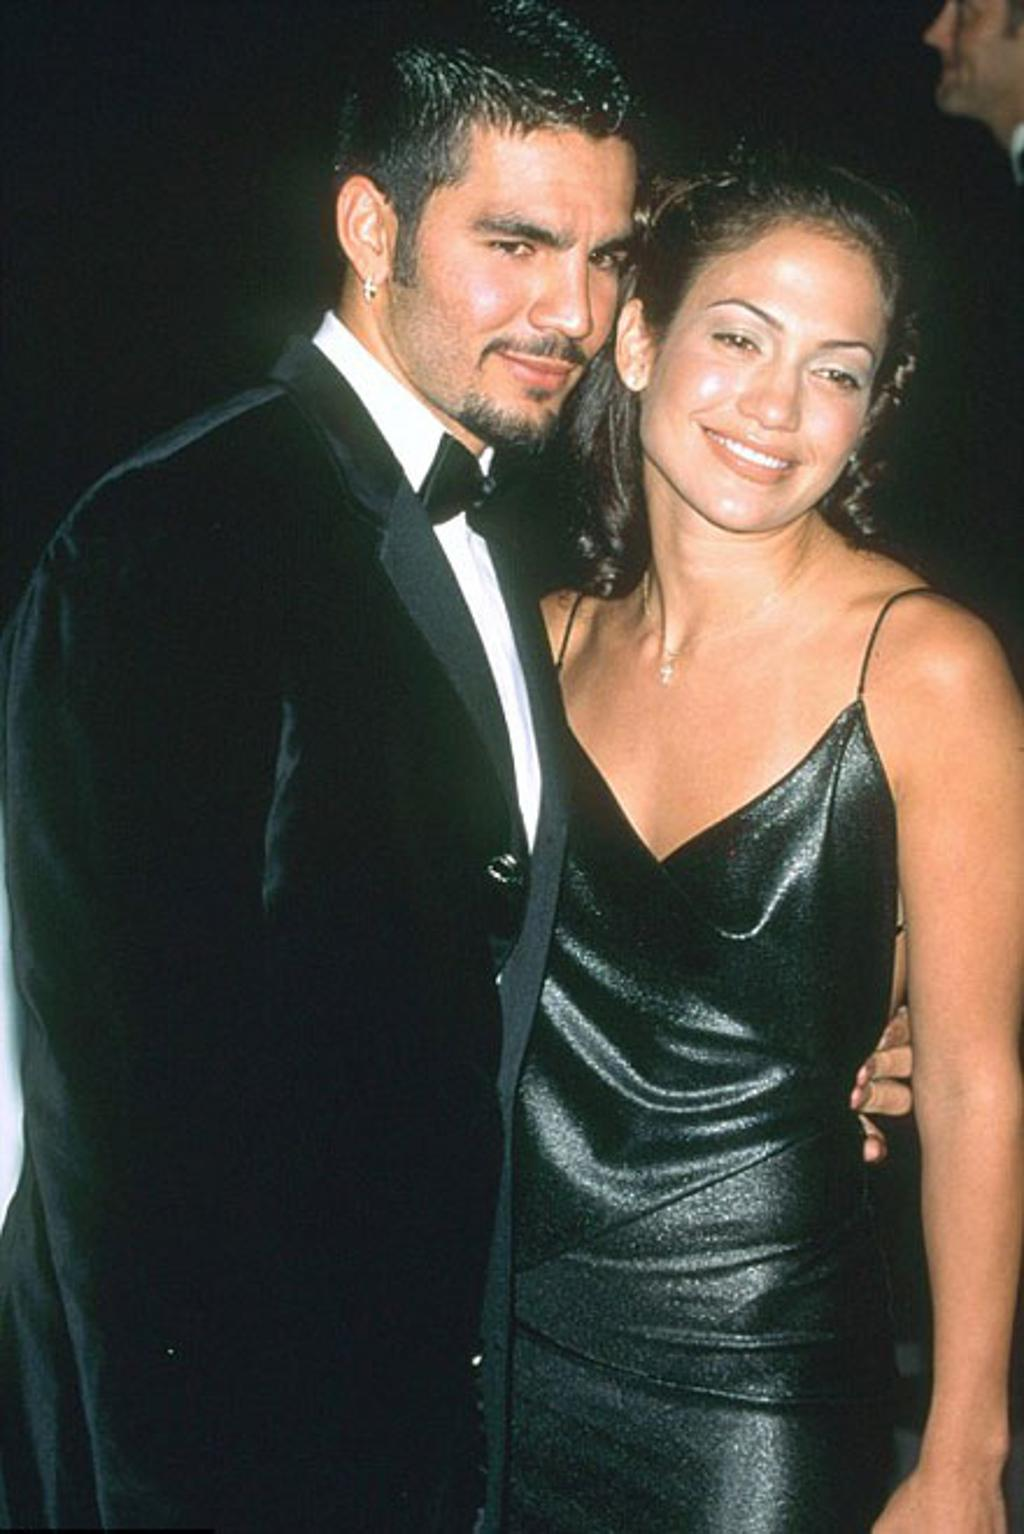face: (650, 225, 893, 527), (407, 117, 632, 440)
